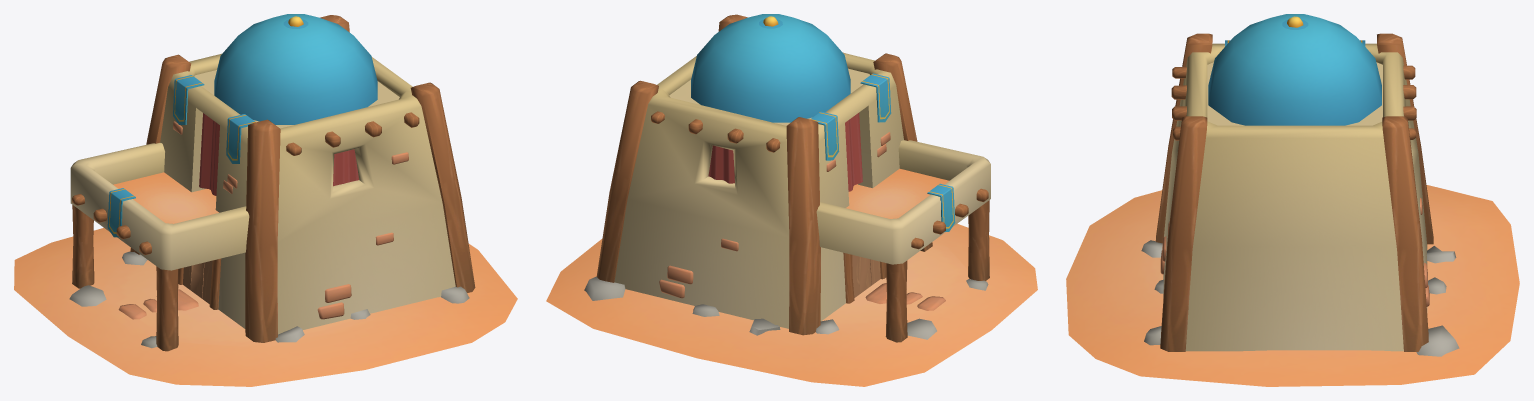
Rendered from Desert TownHall.fbx.
3 views of the same model, side by side, from view 1: azimuth 30°, elevation 25°; view 2: azimuth 150°, elevation 25°; view 3: azimuth 270°, elevation 25° (orthographic). The views are drawn at different scales.
Visible parts, largest first — view 1: Desert TownHall; view 2: Desert TownHall; view 3: Desert TownHall.
Boxes of the visible parts, box(x1,y1,x2,y2) form: Desert TownHall: box(14, 14, 517, 386); Desert TownHall: box(546, 14, 1037, 386); Desert TownHall: box(1066, 14, 1519, 386).
Bounding box in the file's own units: 3.46 × 2.21 × 3.23.
